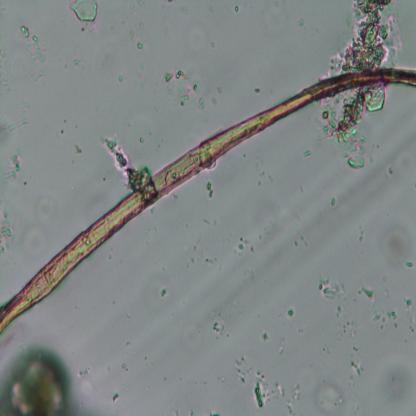Background material: (0, 346, 81, 416), (318, 86, 389, 147), (334, 1, 396, 68), (106, 134, 149, 187), (161, 68, 204, 112), (379, 230, 416, 271), (312, 374, 348, 412), (272, 373, 306, 411), (0, 110, 33, 146), (20, 223, 48, 264), (305, 269, 344, 297), (183, 18, 208, 56), (22, 25, 46, 63), (0, 152, 28, 183), (230, 352, 254, 388), (30, 193, 58, 223), (366, 304, 393, 333), (70, 1, 100, 25), (0, 212, 16, 249), (344, 150, 369, 171), (208, 316, 226, 343), (104, 388, 126, 406), (233, 236, 255, 254), (152, 279, 170, 300), (253, 384, 267, 408), (127, 36, 147, 51), (76, 364, 94, 379), (204, 182, 216, 204), (348, 360, 364, 376), (361, 284, 375, 302), (291, 16, 305, 30), (67, 53, 82, 65), (334, 303, 342, 323), (384, 163, 396, 176), (358, 220, 363, 244), (74, 144, 84, 156), (329, 195, 338, 208), (286, 307, 294, 321), (115, 72, 123, 84), (203, 256, 215, 264), (302, 148, 313, 156), (234, 2, 240, 16), (123, 361, 129, 373), (252, 86, 260, 95), (210, 95, 216, 105), (218, 87, 223, 94), (209, 42, 214, 48)
Cotton: (0, 66, 416, 332)
